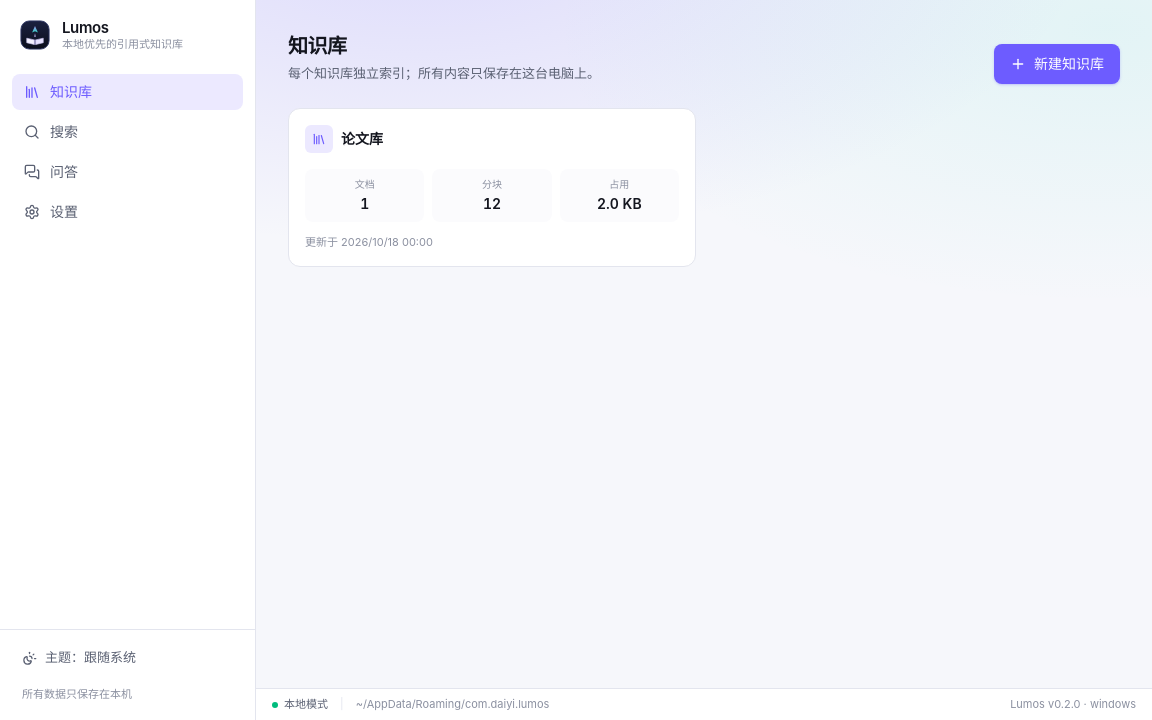
Scenario: 搜索 › 可以检索文档片段并展示来源
Click the button "搜索" at (128, 132), box [12, 114, 243, 150]
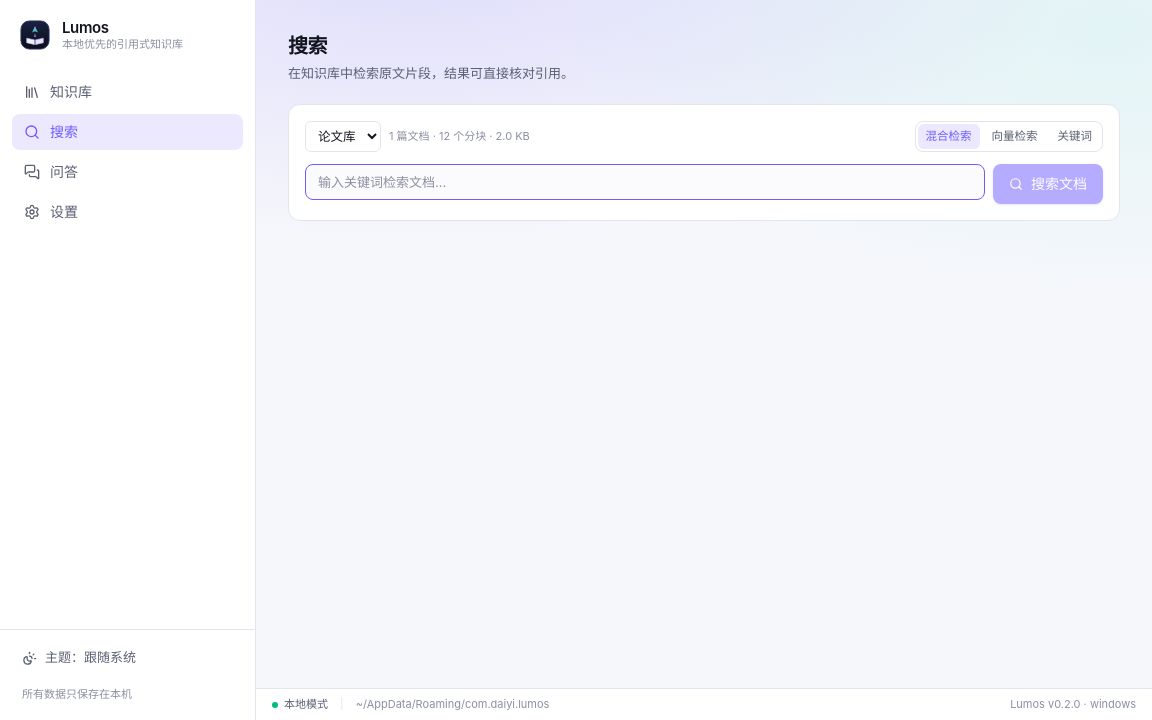
Now the heading "搜索" is shown, box [288, 34, 327, 58]
Type "违约金" into the field named "搜索关键词" at (645, 182), box [305, 164, 985, 200]
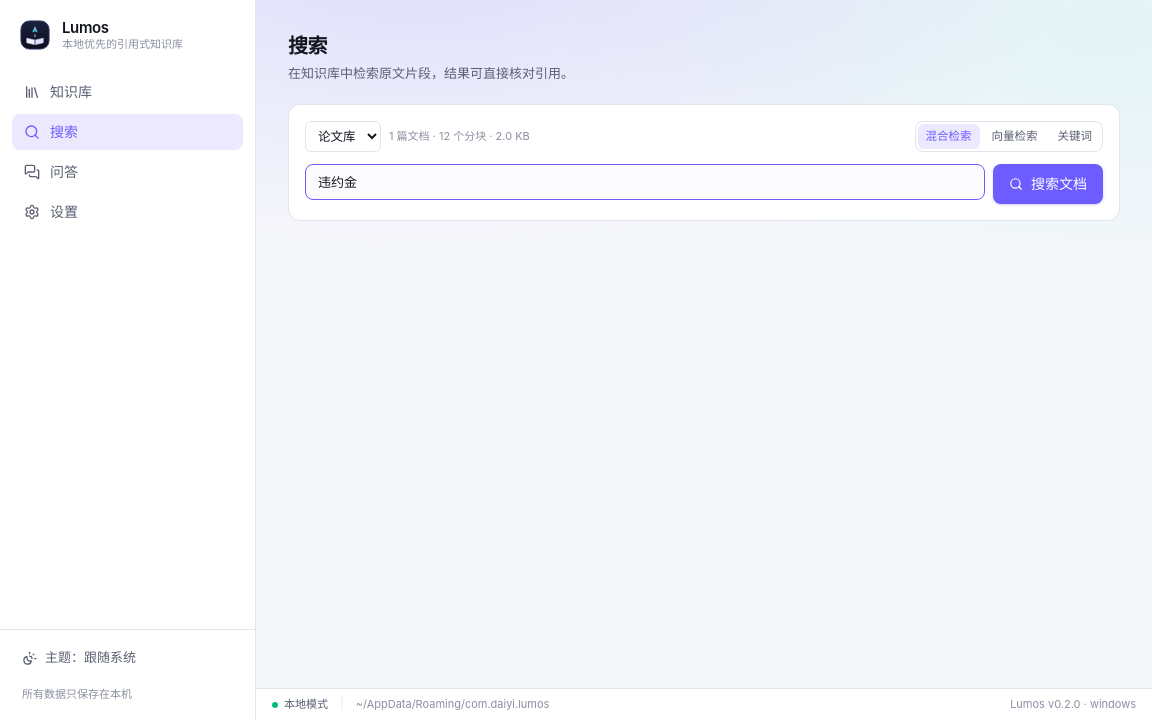
Click the button "搜索文档" at (1048, 184), box [993, 164, 1103, 204]
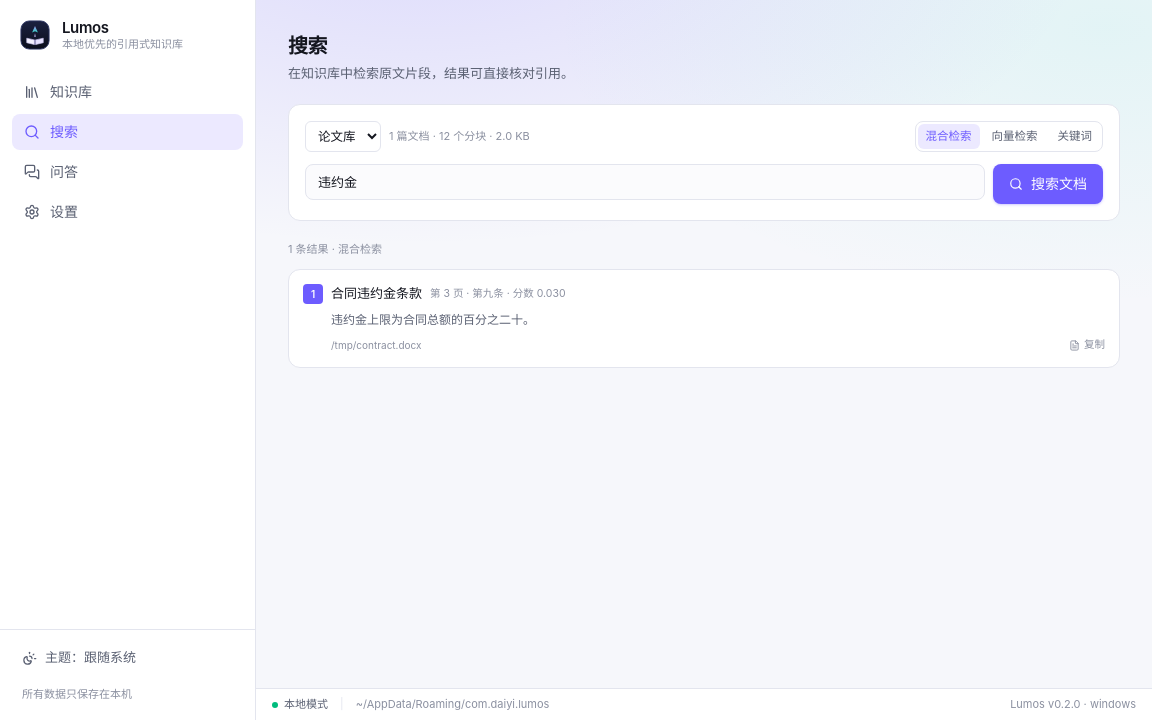
Now the text "合同违约金条款" is shown, box [331, 284, 422, 304]
Now the text "违约金上限为合同总额的百分之二十。" is shown, box [331, 312, 535, 327]
